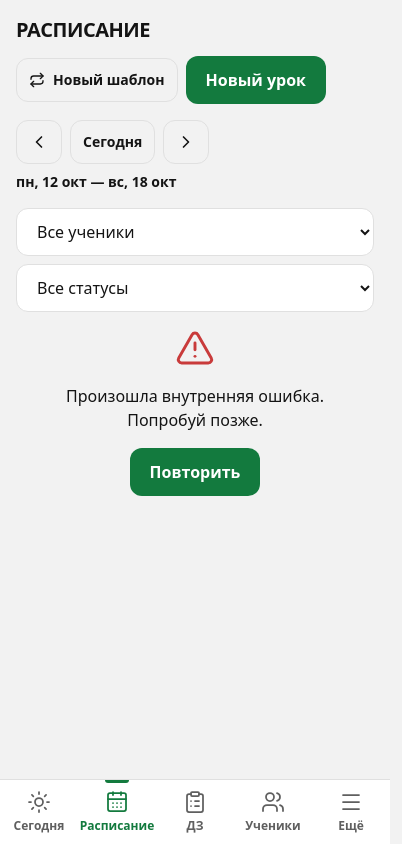
Test: Расписание: просмотр › пусто и ошибка с повтором
Expected: the message shows "Произошла внутренняя ошибка. Попробуй позже.", [66,385,324,431]
Click the button "Повторить" at (195,472), box [130,448,260,496]
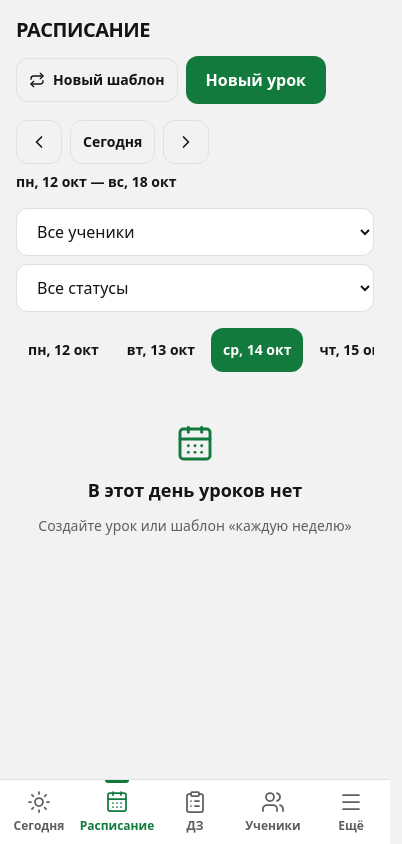
Now the heading "В этот день уроков нет" is shown, box [88,476,302,504]
Now the text "Создайте урок или шаблон «каждую неделю»" is shown, box [38,516,352,536]
